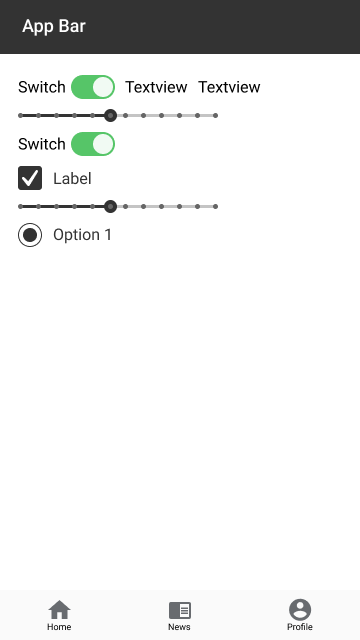checkBox: (16, 163, 93, 193)
navigationButton: (1, 589, 360, 640)
radioButton: (17, 222, 122, 247)
slider: (16, 107, 224, 123), (18, 198, 220, 213)
switch: (19, 130, 116, 158), (16, 76, 115, 100)
textView: (197, 78, 261, 97), (125, 78, 189, 96)
toolbar: (2, 1, 360, 55)
